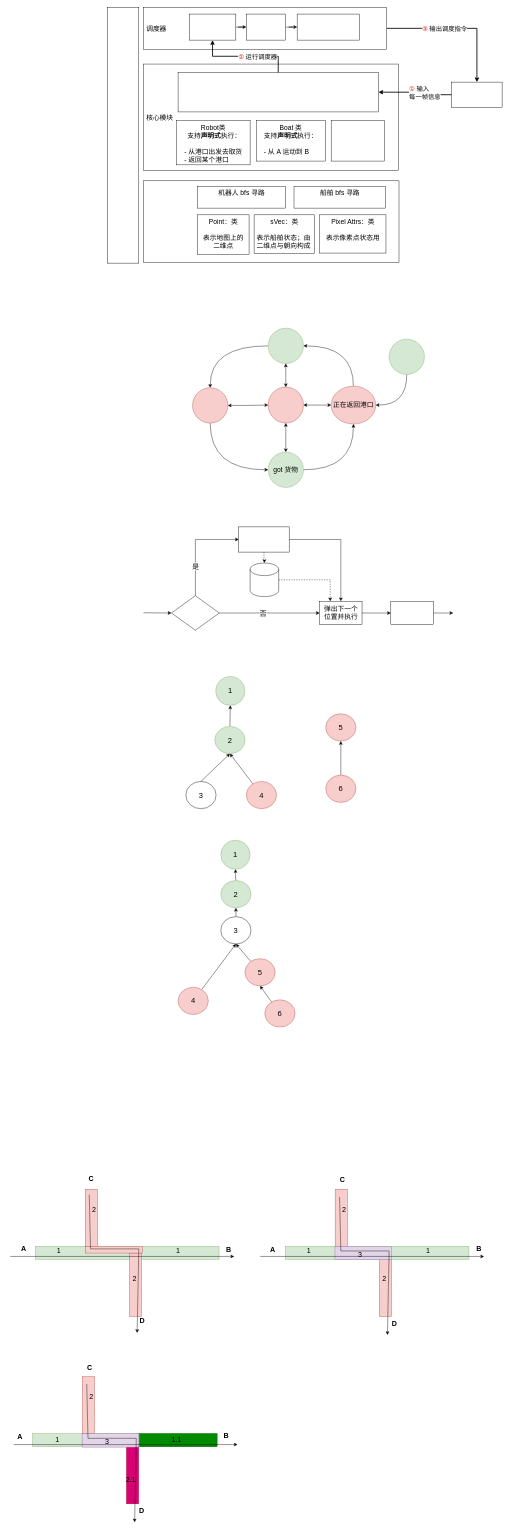
Image size: 509x1533. Some labels were removed from this diagram. The box of each missing label's shape, as (x1, y1, x2, y2) in pixels:
Berth 类 用于管理港口的货物情况: (331, 120, 385, 161)
env：类 管理地图、机器人、港口、船只等对象 处理判题器输入: (178, 72, 378, 112)
Log: (107, 7, 139, 263)
on 港口: (268, 328, 303, 364)
判题器: (451, 82, 502, 107)
未初始化: (389, 339, 424, 374)
根据当前位置更新状态: (390, 601, 433, 625)
正在去取货: (192, 387, 228, 423)
正在避障: (268, 387, 303, 423)
状态改变？: (171, 595, 219, 630)
调度 Boat: (246, 14, 285, 40)
调度 Robot 取货/回港等: (189, 14, 236, 40)
调度购买Robot 与 Boat: (297, 14, 360, 40)
路径栈: (250, 563, 279, 597)
路径规划模块: (143, 180, 399, 262)
重新计算路径: (238, 526, 289, 552)
